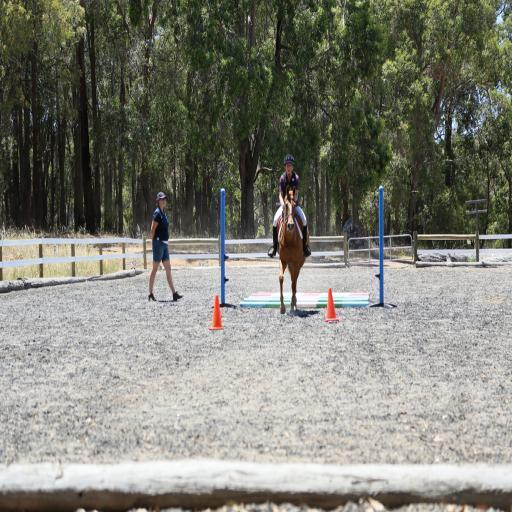horse: (278, 185, 310, 314)
